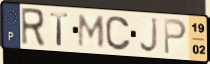C: (104, 15, 133, 53)
J: (139, 17, 160, 55)
M: (76, 13, 106, 50)
P: (162, 17, 188, 57)
R: (20, 7, 47, 49)
T: (49, 12, 70, 48)
